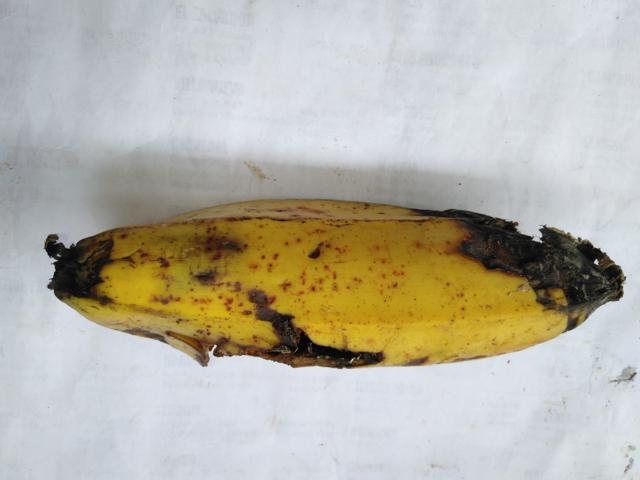rotten: (9, 194, 380, 399), (425, 166, 639, 361)
